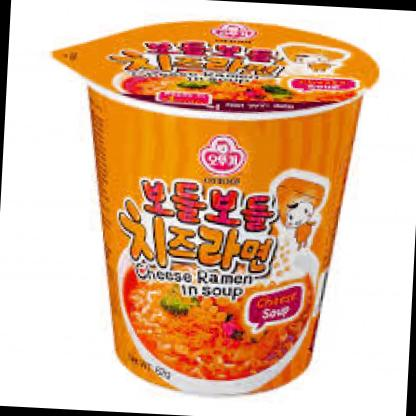Ramen: (66, 11, 366, 400)
